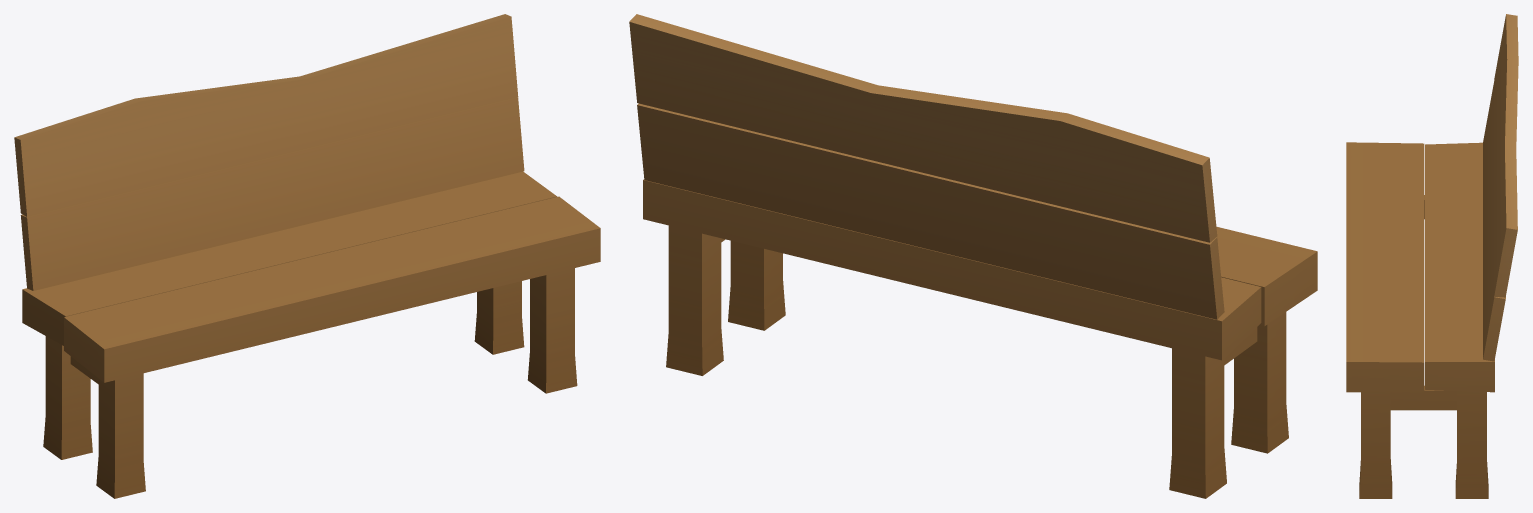
File: bench.FBX
The picture shows the model from 3 angles, left to right: view 1: azimuth 30°, elevation 25°; view 2: azimuth 150°, elevation 25°; view 3: azimuth 270°, elevation 25°; orthographic projection. The views are drawn at different scales.
Parts seen in each view (by area): view 1: bench; view 2: bench; view 3: bench.
Part boxes in pixels (bbox=[...]): bench: bbox=[14, 14, 600, 498]; bench: bbox=[629, 14, 1317, 498]; bench: bbox=[1346, 14, 1518, 498].
Bounding box in the file's own units: 318 × 105 × 190.
